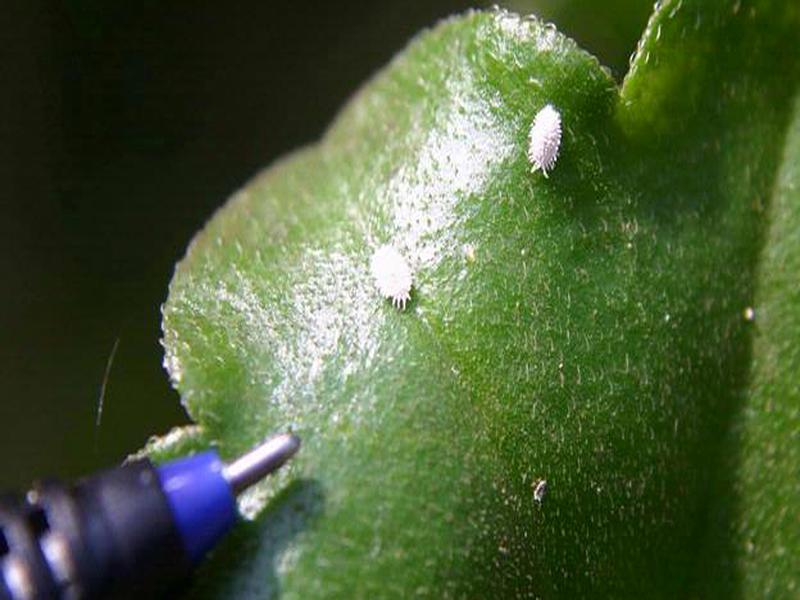Mealy_bug: (501, 78, 598, 184), (348, 234, 444, 316)
